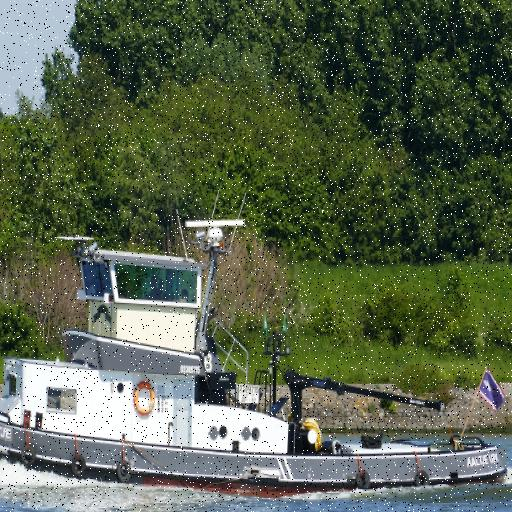tugboat: (1, 190, 512, 508)
